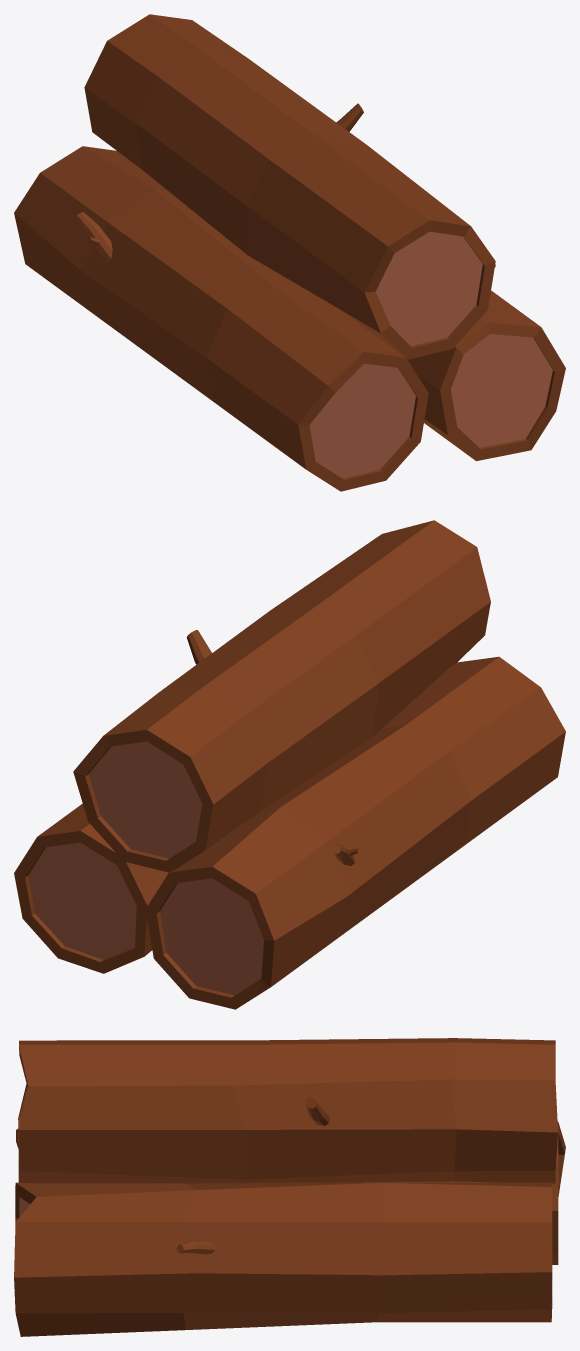
Rendered from Logs.fbx.
The picture shows the model from 3 angles, top to bottom: view 1: azimuth 30°, elevation 25°; view 2: azimuth 150°, elevation 25°; view 3: azimuth 270°, elevation 25°; orthographic projection. The views are drawn at different scales.
Parts seen in each view (by area): view 1: Cylinder.002, Cylinder, Cylinder.001, Cylinder.005; view 2: Cylinder.002, Cylinder, Cylinder.001; view 3: Cylinder.001, Cylinder.002, Cylinder, Cylinder.003, Cylinder.004.
Boxes of the visible parts, box(x1,y1,x2,y2) form: Cylinder.002: box(84, 14, 495, 359); Cylinder: box(14, 146, 428, 491); Cylinder.001: box(407, 290, 565, 461); Cylinder.005: box(74, 211, 112, 262); Cylinder.002: box(73, 520, 490, 872); Cylinder: box(146, 656, 565, 1009); Cylinder.001: box(14, 803, 168, 973); Cylinder.001: box(14, 1182, 552, 1336); Cylinder.002: box(18, 1038, 557, 1183); Cylinder: box(16, 1122, 565, 1264); Cylinder.003: box(177, 1240, 215, 1254); Cylinder.004: box(305, 1097, 329, 1125).
Size of the model in its own units: 244 by 211 by 428.
